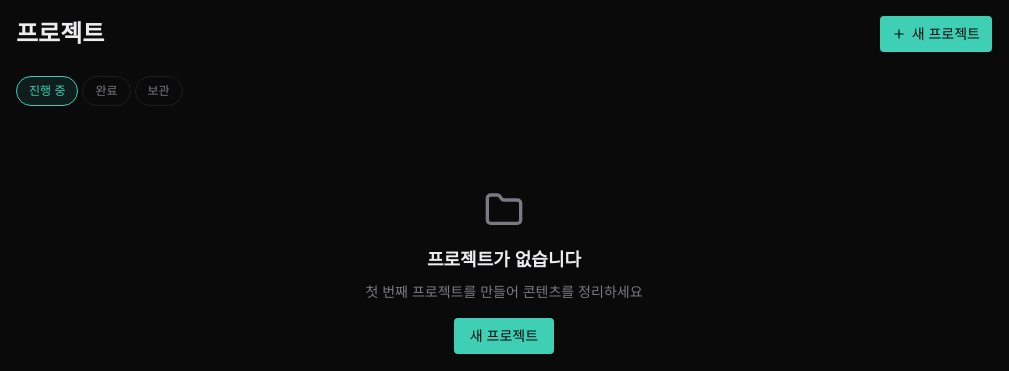
Test: ProjectsPage 상태 필터 › 완료 탭을 누르면 status=completed 로 재조회하고 빈 상태에 생성 CTA 를 숨긴다
The image size is (1009, 371).
Expected: the element with test id "projects-empty-state" is shown, [366,190,643,354]
Expected: the button "새 프로젝트" below "첫 번째 프로젝트를 만들어 콘텐츠를 정리하세요" is shown, [454,318,554,354]
Click the tab with test id "projects-status-completed": (107, 91) [82,76,131,106]
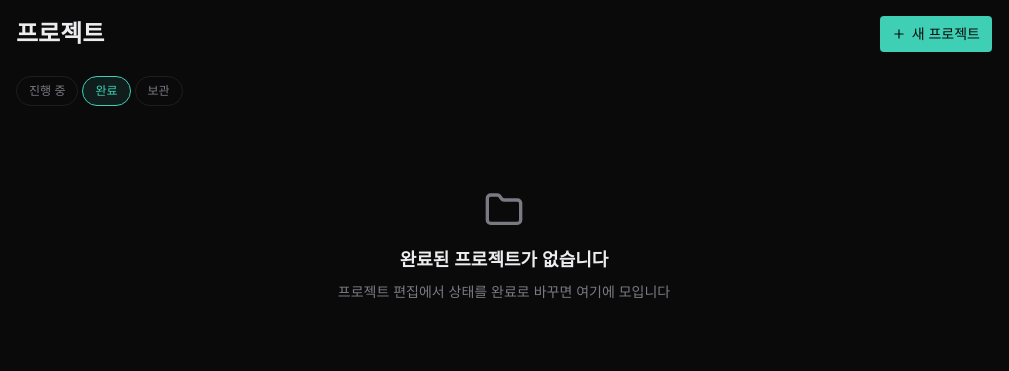
Expected: the heading "완료된 프로젝트가 없습니다" is shown, [400,246,608,274]
